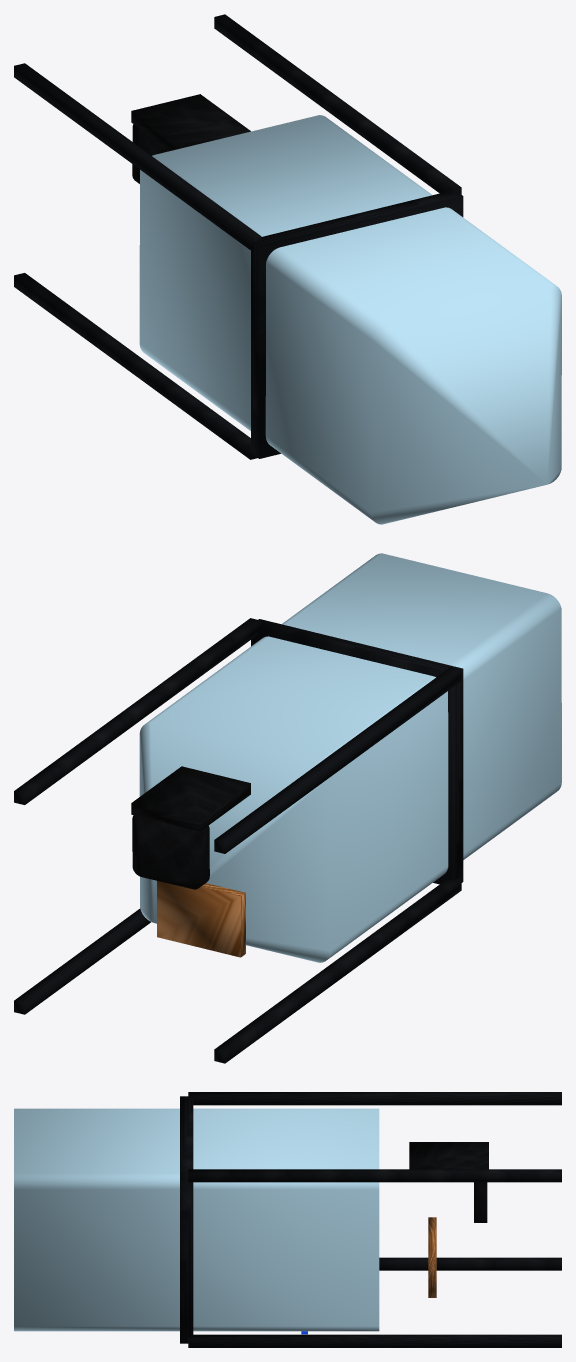
The model's file is PHONEBOOTH_1P_GLASS_001.glb.
3 renders of one model, top to bottom at view 1: azimuth 30°, elevation 25°; view 2: azimuth 150°, elevation 25°; view 3: azimuth 270°, elevation 25°, orthographic. The views are drawn at different scales.
Visible parts, largest first — view 1: glass_body_000, roof_005, black_frame_002, black_frame_004, black_frame_001, back_008, seat_007; view 2: glass_body_000, roof_005, black_frame_002, tiny_desk_006, black_frame_004, black_frame_001, back_008, seat_007, black_frame_003; view 3: glass_body_000, black_frame_004, black_frame_003, black_frame_002, roof_005, black_frame_001, back_008, tiny_desk_006, seat_007.
Boxes of the visible parts, bbox=[...] form: glass_body_000: bbox=[139, 115, 561, 524]; roof_005: bbox=[251, 191, 463, 458]; black_frame_002: bbox=[14, 63, 261, 250]; black_frame_004: bbox=[214, 14, 461, 194]; black_frame_001: bbox=[14, 273, 257, 459]; back_008: bbox=[131, 94, 250, 150]; seat_007: bbox=[132, 124, 169, 183]; glass_body_000: bbox=[139, 553, 561, 962]; roof_005: bbox=[251, 619, 463, 884]; black_frame_002: bbox=[214, 667, 461, 853]; tiny_desk_006: bbox=[157, 881, 245, 957]; black_frame_004: bbox=[14, 618, 261, 804]; black_frame_001: bbox=[214, 878, 461, 1063]; back_008: bbox=[131, 766, 250, 831]; seat_007: bbox=[132, 815, 209, 889]; black_frame_003: bbox=[14, 908, 150, 1014]; glass_body_000: bbox=[14, 1108, 379, 1331]; black_frame_004: bbox=[188, 1169, 561, 1182]; black_frame_003: bbox=[188, 1334, 561, 1347]; black_frame_002: bbox=[188, 1092, 561, 1105]; roof_005: bbox=[180, 1096, 193, 1343]; black_frame_001: bbox=[379, 1257, 561, 1270]; back_008: bbox=[409, 1142, 488, 1169]; tiny_desk_006: bbox=[428, 1217, 436, 1297]; seat_007: bbox=[474, 1182, 487, 1222].
Size of the model in its own units: 1.16 by 1.18 by 3.3.
Materials: 5 (5 with a texture image).
